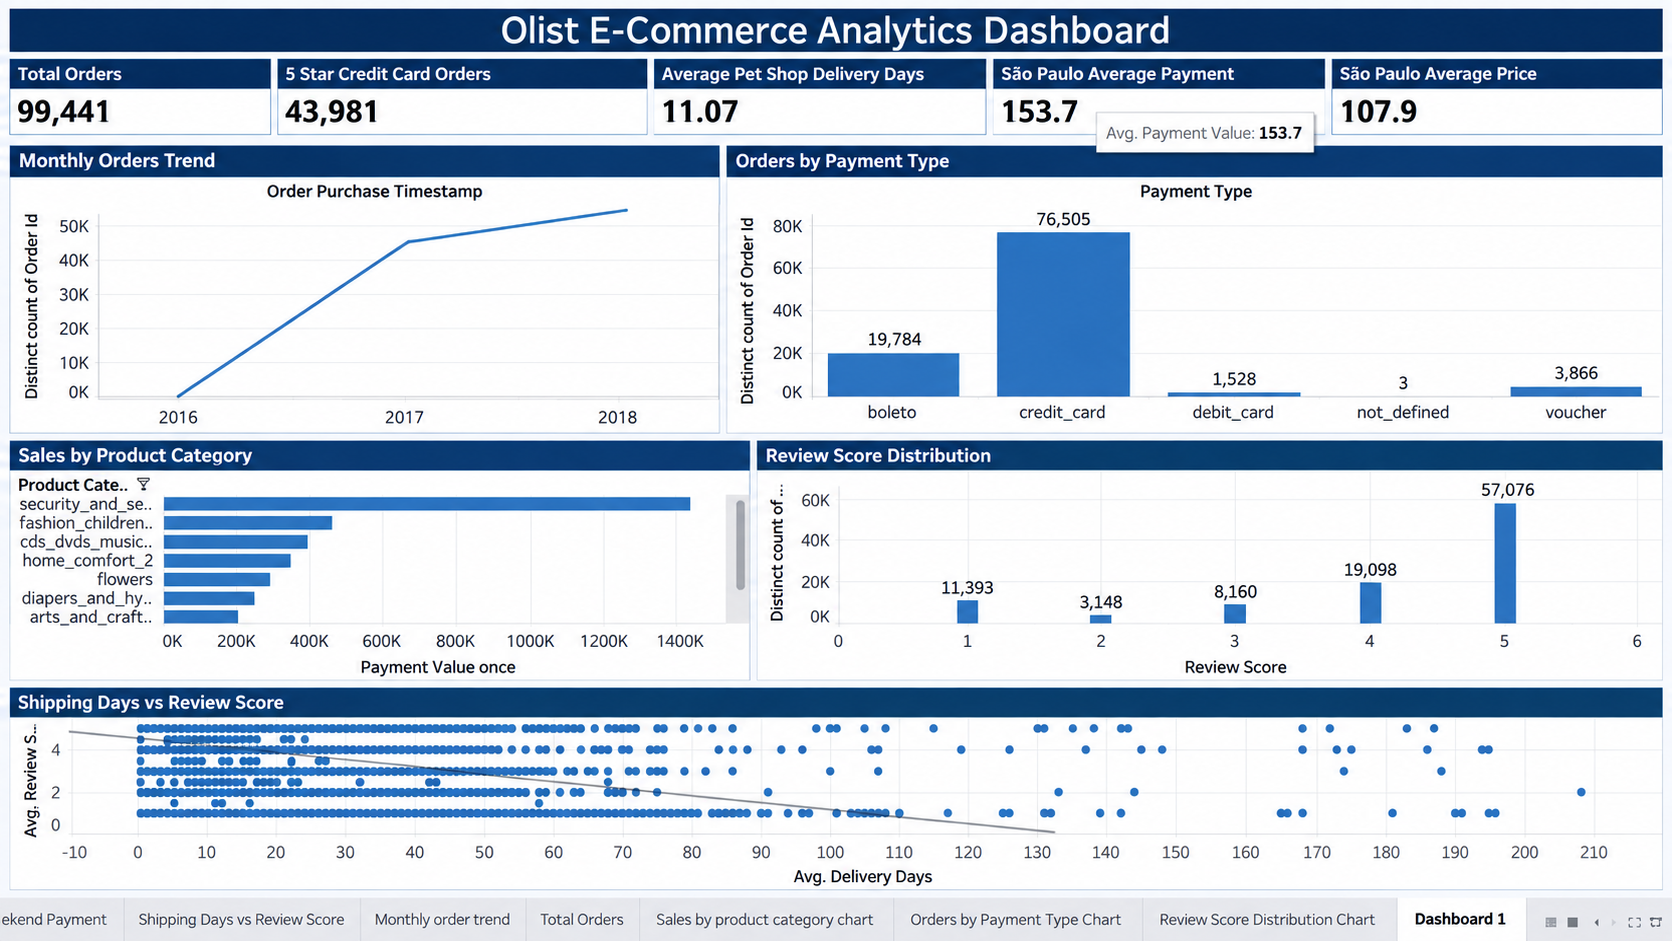

This screenshot's page, from the dashboard's own definition file:
{"tool":"tableau","page":{"name":"Dashboard 1","canvas":[1000,1000],"units":"permille","ordinal":0},"visuals":[{"type":"title","box":[4.8,9.9,990.4,69.5]},{"type":"worksheet","title":"Total Orders","mark":"Text","box":[4.8,79.4,153.2,98]},{"type":"worksheet","title":" 5 Star Credit Card Orders ","mark":"Automatic","box":[158.1,79.4,209.3,125.3]},{"type":"worksheet","title":"Average Pet Shop Delivery Days","mark":"Automatic","box":[367.3,79.4,209.3,125.3]},{"type":"worksheet","title":"São Paulo Average Payment","mark":"Text","box":[576.6,79.4,209.3,125.3]},{"type":"worksheet","title":"São Paulo Average Price ","mark":"Automatic","box":[785.9,79.4,209.3,125.3]},{"type":"worksheet","title":"Monthly order trend","mark":"Automatic","rows":["order_id"],"cols":["order_purchase_timestamp"],"box":[4.8,204.7,414.7,279.2]},{"type":"worksheet","title":"Orders by Payment Type Chart","mark":"Automatic","rows":["order_id"],"cols":["payment_type"],"box":[419.5,204.7,575.7,279.2]},{"type":"worksheet","title":"Sales by product category chart","mark":"Bar","rows":["product_category_name_english"],"cols":["Payment_Value_once"],"box":[4.8,483.9,509,265.5]},{"type":"worksheet","title":"Review Score Distribution Chart","mark":"Bar","rows":["order_id"],"cols":["review_score"],"box":[513.8,483.9,481.4,265.5]},{"type":"worksheet","title":"Shipping Days vs Review Score","mark":"Circle","rows":["review_score"],"cols":["Delivery Days"],"box":[4.8,749.4,990.4,240.7]}]}

Visuals, with their boxes on the dashboard's canvas, which has no fixed pixel size, in thousandths of its width and height (x1, y1, x2, y2). These are canvas units, not pixel positions in the 1672x941 screenshot, which may show the page scaled, cropped or inside an application window:
title: bbox(5, 10, 995, 79)
"Total Orders" worksheet (Text marks): bbox(5, 79, 158, 177)
" 5 Star Credit Card Orders " worksheet: bbox(158, 79, 367, 205)
"Average Pet Shop Delivery Days" worksheet: bbox(367, 79, 577, 205)
"São Paulo Average Payment" worksheet (Text marks): bbox(577, 79, 786, 205)
"São Paulo Average Price " worksheet: bbox(786, 79, 995, 205)
"Monthly order trend" worksheet: bbox(5, 205, 420, 484)
"Orders by Payment Type Chart" worksheet: bbox(420, 205, 995, 484)
"Sales by product category chart" worksheet (Bar marks): bbox(5, 484, 514, 749)
"Review Score Distribution Chart" worksheet (Bar marks): bbox(514, 484, 995, 749)
"Shipping Days vs Review Score" worksheet (Circle marks): bbox(5, 749, 995, 990)
